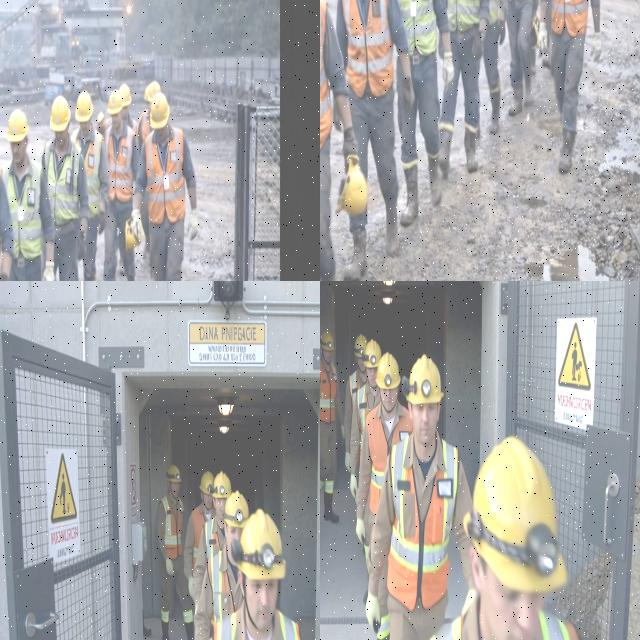Vest: (388, 439, 458, 611), (366, 408, 412, 516), (342, 0, 393, 97), (2, 160, 42, 259), (145, 127, 185, 224), (44, 141, 80, 226), (107, 126, 135, 202), (399, 0, 437, 56), (207, 551, 234, 621), (320, 0, 332, 149), (85, 130, 102, 218), (161, 497, 183, 559), (551, 0, 588, 36), (447, 0, 480, 32), (320, 360, 336, 422), (357, 385, 373, 447), (192, 505, 205, 570), (540, 611, 570, 639), (203, 516, 220, 560), (214, 613, 237, 639), (349, 371, 360, 406), (489, 0, 499, 24), (508, 0, 524, 2), (0, 170, 0, 266)
Worker: (366, 356, 473, 639), (431, 437, 578, 639), (337, 0, 412, 256), (131, 93, 198, 280), (398, 0, 453, 226), (212, 510, 300, 639), (356, 354, 412, 556), (538, 0, 601, 172), (320, 0, 356, 280), (440, 0, 489, 179), (2, 109, 53, 280), (42, 96, 88, 280), (194, 492, 248, 639), (71, 91, 108, 280), (104, 90, 138, 280), (157, 465, 193, 639), (192, 472, 231, 604), (350, 341, 381, 498), (320, 332, 344, 523), (183, 472, 214, 596), (507, 0, 539, 116), (483, 0, 506, 133), (345, 334, 367, 472), (0, 170, 13, 280), (540, 2, 550, 68), (141, 196, 149, 260), (532, 48, 536, 74)
helmet: (464, 437, 566, 593), (233, 509, 285, 580), (403, 356, 443, 404), (336, 156, 367, 216), (223, 492, 249, 527), (377, 353, 400, 389), (50, 96, 70, 132), (7, 109, 28, 142), (150, 93, 169, 129), (76, 91, 93, 122), (363, 341, 381, 368), (213, 472, 231, 498), (125, 220, 138, 250), (107, 90, 122, 115), (200, 472, 214, 494), (354, 334, 367, 357), (320, 331, 334, 351), (119, 84, 131, 107), (148, 81, 160, 102), (167, 465, 181, 483)
